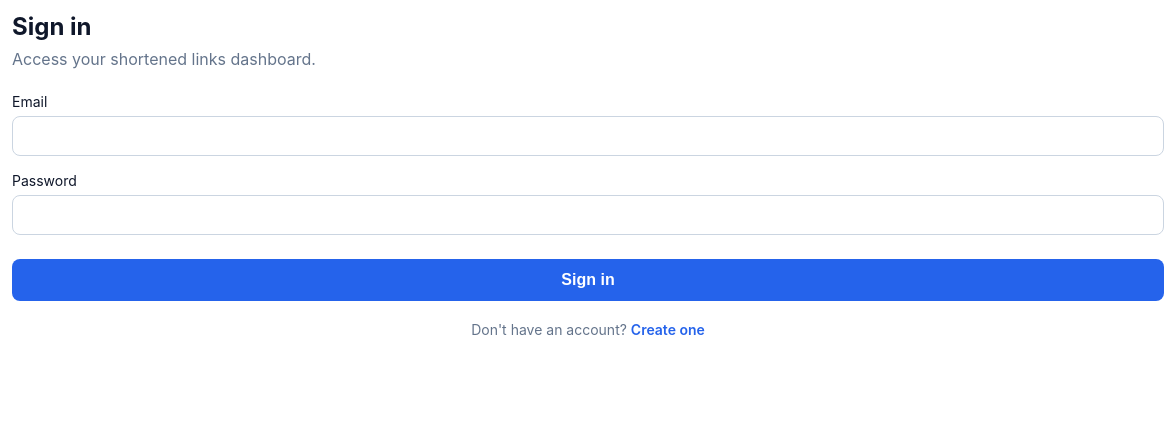
LoginForm › shows an error when credentials are invalid
Type "user@example.com" into the field labelled "Email". click: (588, 136)
box: top-left (12, 116), bottom-right (1164, 156)
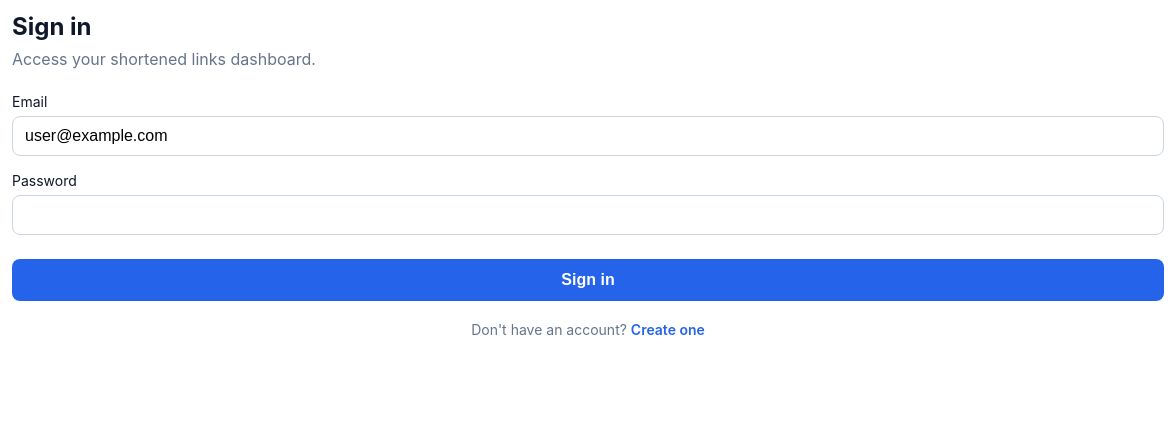
Type "wrong-password" into the password field labelled "Password". click: (588, 215)
box: top-left (12, 195), bottom-right (1164, 235)
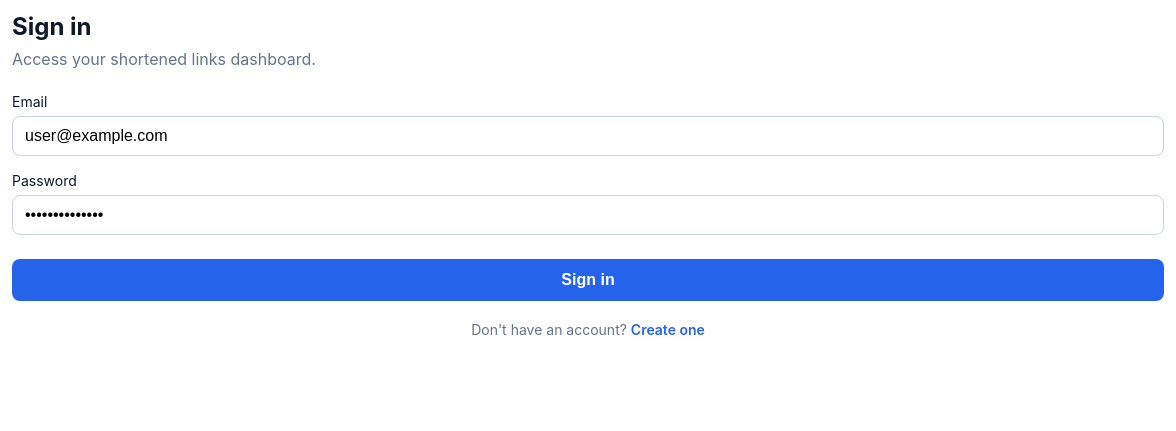
Submit the form
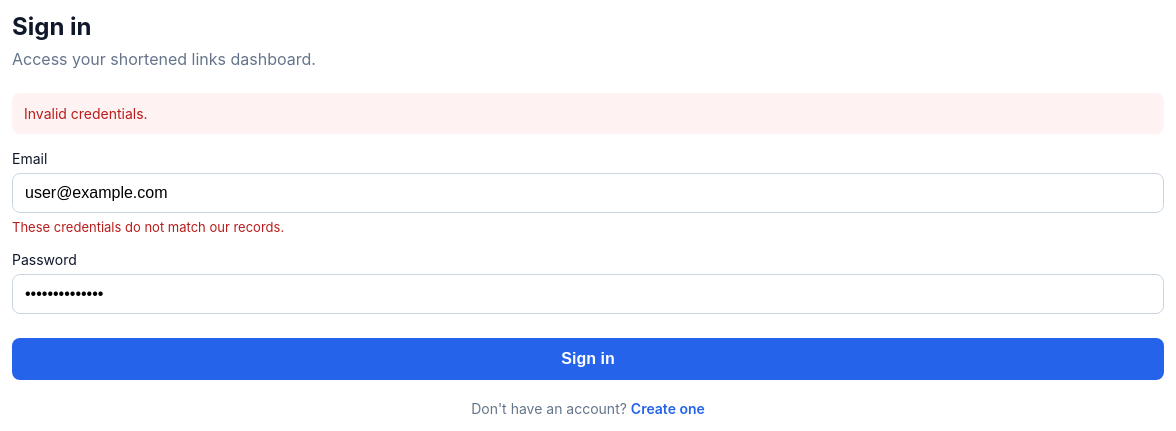
Result: the text with class "general-error" reads "Invalid credentials." at top-left (24, 105), bottom-right (148, 122)
Result: the form shows "These credentials do not match our records." at top-left (12, 219), bottom-right (284, 235)
